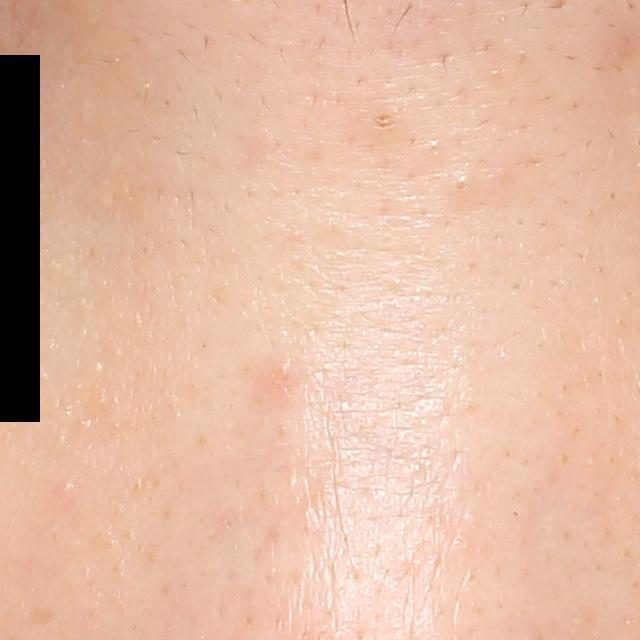comedo: (444, 171, 476, 206), (371, 109, 396, 134), (54, 476, 74, 499)
